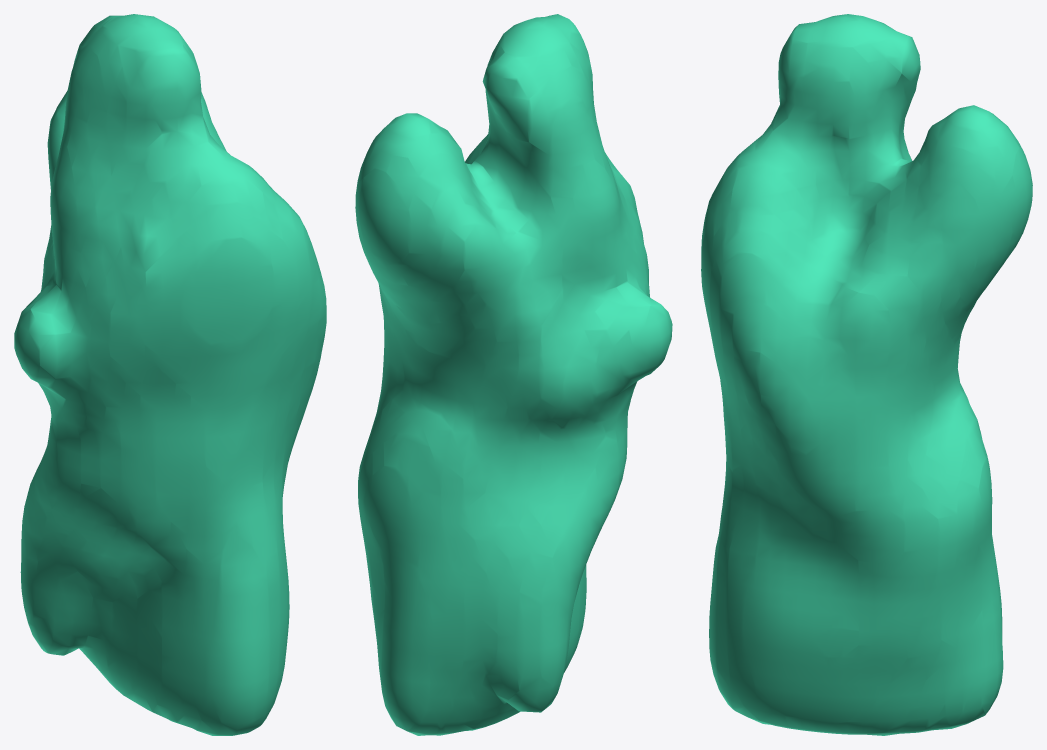
The picture shows the model from 3 angles, left to right: view 1: azimuth 30°, elevation 25°; view 2: azimuth 150°, elevation 25°; view 3: azimuth 270°, elevation 25°; orthographic projection. The views are drawn at different scales.
Visible parts, largest first — view 1: Liquid_Domain; view 2: Liquid_Domain; view 3: Liquid_Domain.
Part boxes in pixels (bbox=[...]): Liquid_Domain: bbox=[14, 14, 326, 735]; Liquid_Domain: bbox=[355, 14, 672, 735]; Liquid_Domain: bbox=[701, 14, 1032, 735].
Size of the model in its own units: 2.78 by 6.64 by 2.95.
